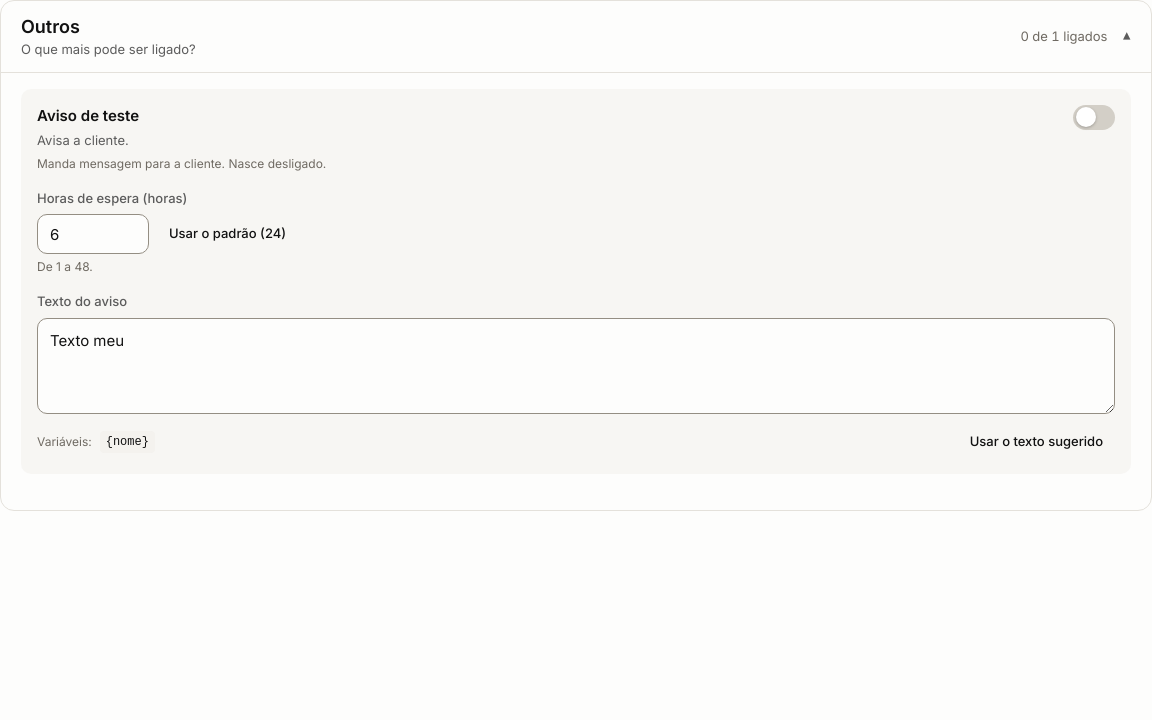
erro do servidor aparece no cartão
Step 1. Replace the text in the field labelled "Horas de espera (horas)" with "99" → (93, 234), box [37,214,149,254]
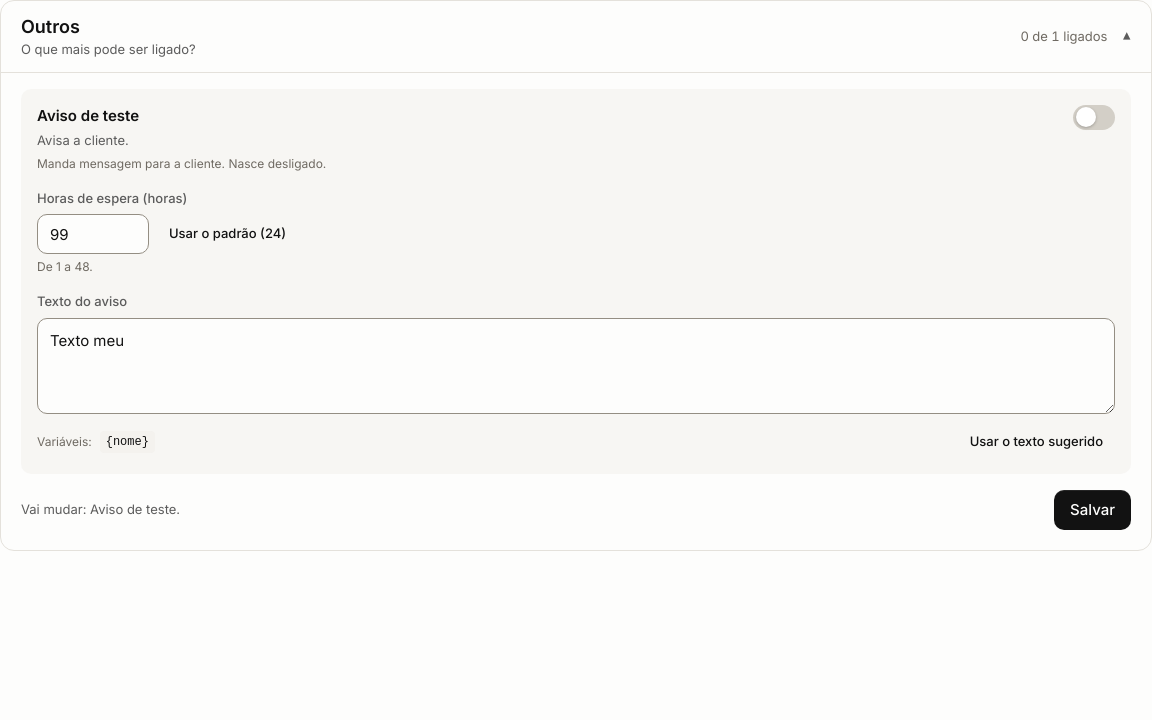
Step 2. Click the button with aria-label "Salvar Outros" → click(1093, 510), box [1054,490,1131,530]
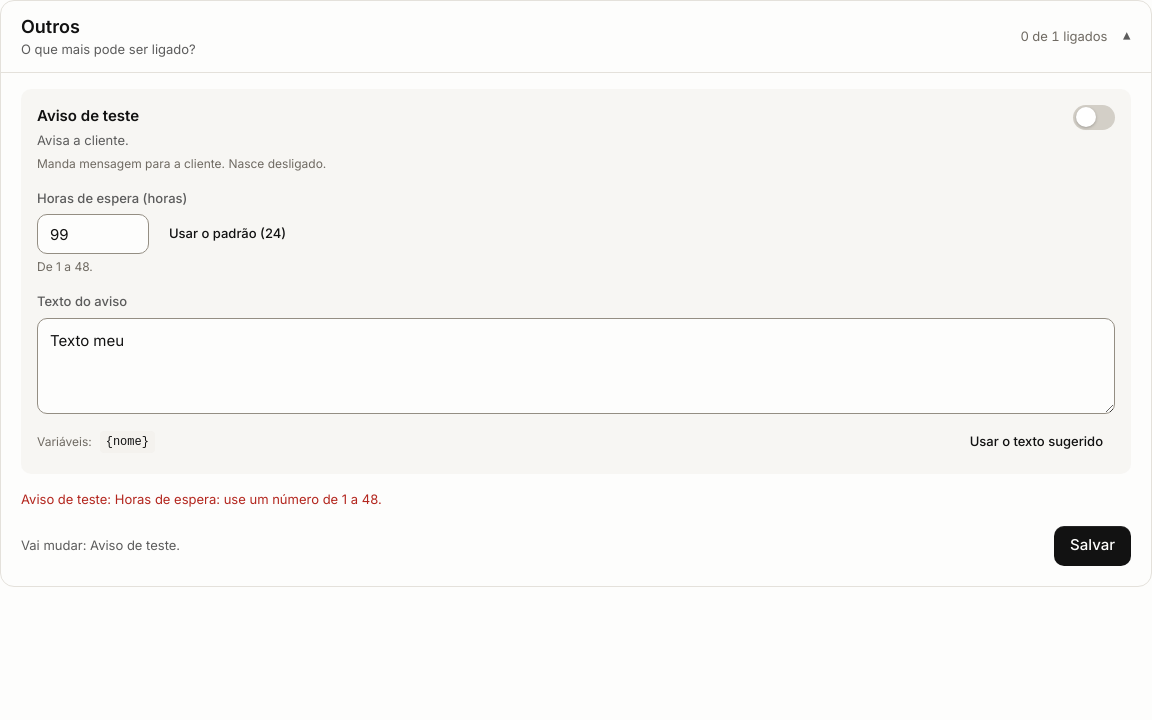
Expected: the message "Aviso de teste: Horas de espera: use um número de 1 a 48." is shown, [21,491,382,507]
